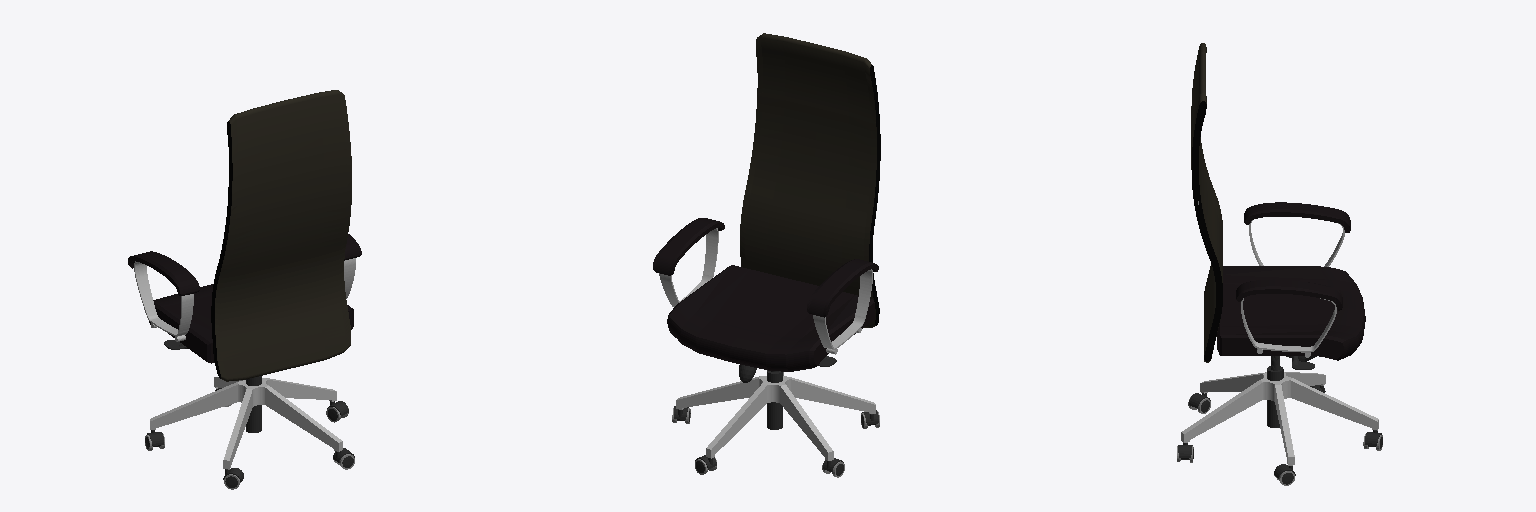
3 renders of one model, left to right at view 1: azimuth 30°, elevation 25°; view 2: azimuth 150°, elevation 25°; view 3: azimuth 270°, elevation 25°, orthographic.
Visible parts, largest first — view 1: Mesh1 Group1 Model, Mesh3 Group3 Model, Mesh6 Group6 Model, Mesh12 Group10 Armrest2 Model, Mesh13 Group11 Armrest2 Model; view 2: Mesh1 Group1 Model, Mesh6 Group6 Model, Mesh3 Group3 Model, Mesh13 Group11 Armrest2 Model, Mesh9 Group9 Armrest1 Model, Mesh12 Group10 Armrest2 Model, Mesh8 Group8 Armrest1 Model, Mesh2 Group2 Model; view 3: Mesh6 Group6 Model, Mesh3 Group3 Model, Mesh1 Group1 Model, Mesh13 Group11 Armrest2 Model, Mesh9 Group9 Armrest1 Model, Mesh8 Group8 Armrest1 Model, Mesh2 Group2 Model.
Boxes of the visible parts, x1,y1,x2,y2 form: Mesh1 Group1 Model: [211, 90, 351, 381]; Mesh3 Group3 Model: [150, 377, 342, 469]; Mesh6 Group6 Model: [149, 284, 353, 363]; Mesh12 Group10 Armrest2 Model: [134, 261, 193, 336]; Mesh13 Group11 Armrest2 Model: [128, 251, 199, 295]; Mesh1 Group1 Model: [740, 33, 880, 327]; Mesh6 Group6 Model: [667, 265, 874, 371]; Mesh3 Group3 Model: [676, 372, 875, 460]; Mesh13 Group11 Armrest2 Model: [807, 259, 878, 317]; Mesh9 Group9 Armrest1 Model: [653, 218, 724, 275]; Mesh12 Group10 Armrest2 Model: [813, 269, 872, 349]; Mesh8 Group8 Armrest1 Model: [659, 228, 718, 306]; Mesh2 Group2 Model: [767, 370, 782, 429]; Mesh6 Group6 Model: [1217, 266, 1365, 360]; Mesh3 Group3 Model: [1181, 372, 1378, 465]; Mesh1 Group1 Model: [1191, 43, 1222, 362]; Mesh13 Group11 Armrest2 Model: [1244, 202, 1350, 232]; Mesh9 Group9 Armrest1 Model: [1236, 279, 1342, 310]; Mesh8 Group8 Armrest1 Model: [1241, 298, 1336, 352]; Mesh2 Group2 Model: [1267, 356, 1283, 427].
Size of the model in its own units: 0.4525 by 0.8617 by 0.4344.